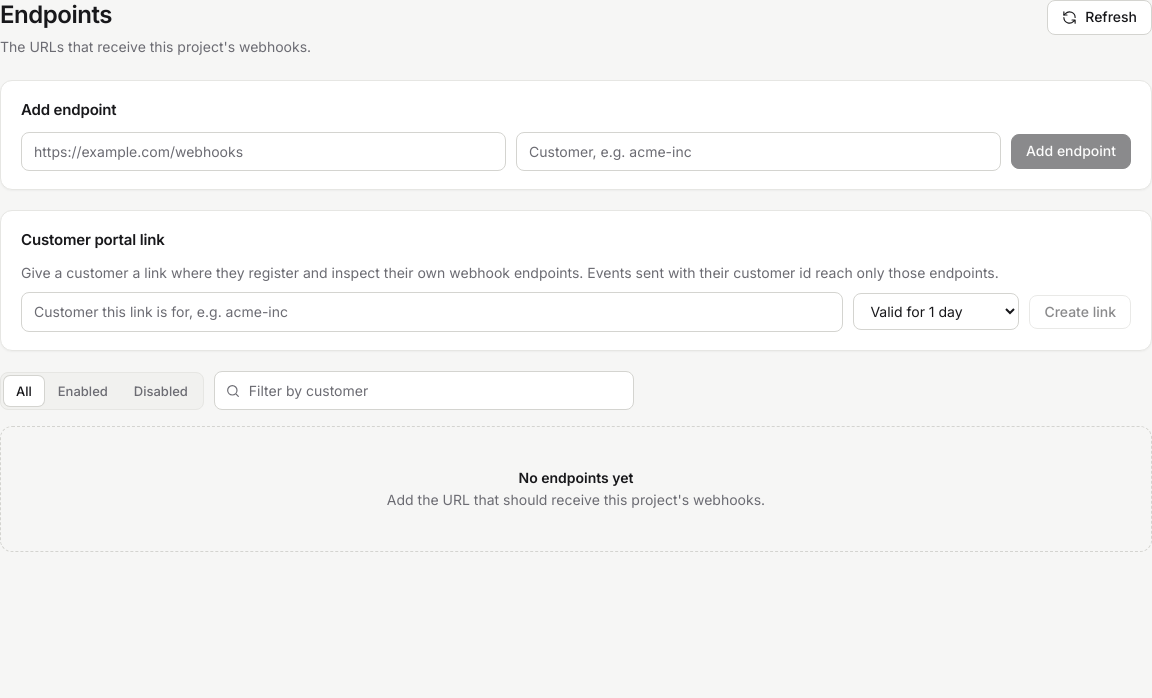
EndpointsPage › shows the empty state, then the signing secret once after creating
The image size is (1152, 698).
Expected: the text "No endpoints yet" is shown, [518,469,634,486]
In the field named "Endpoint URL": point(264, 152) [21,132,506,171], type "https://hooks.example.com/in"
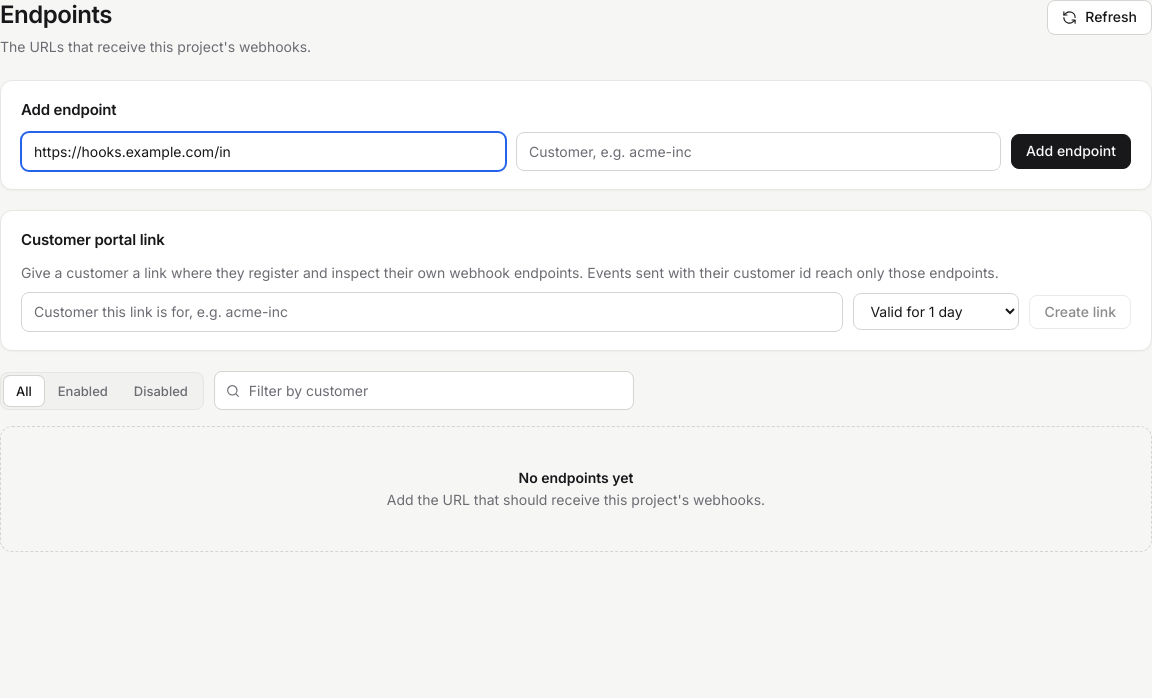
Click the button "Add endpoint": point(1071, 152) [1011,134,1131,169]
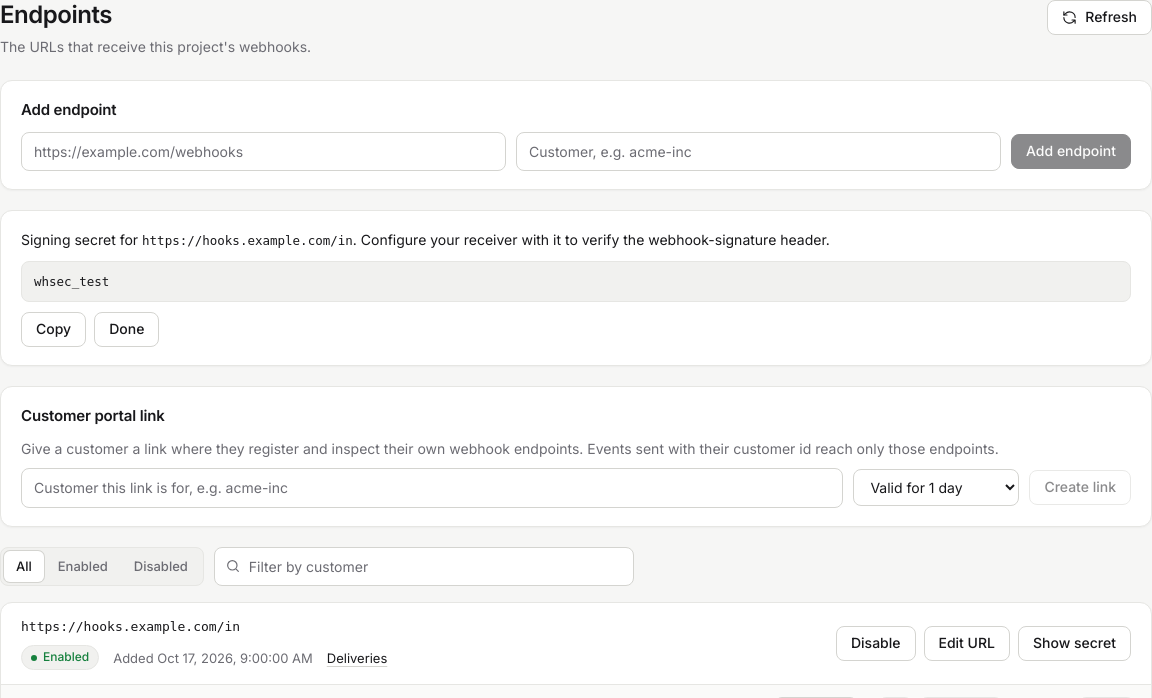
Result: the text "whsec_test" is shown at [21,261,1131,302]
Result: the 2nd text "https://hooks.example.com/in" is shown at [21,619,240,634]
Click the button "Done": point(127, 330) [94,312,159,347]
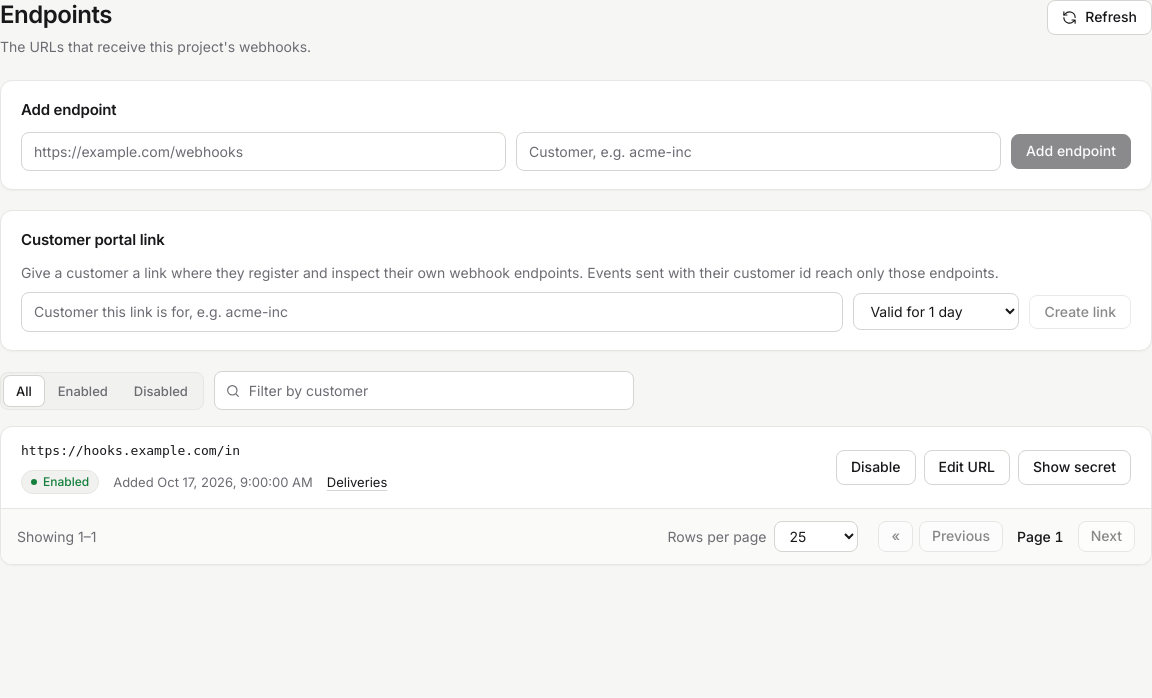
Result: the text "whsec_test" is gone
